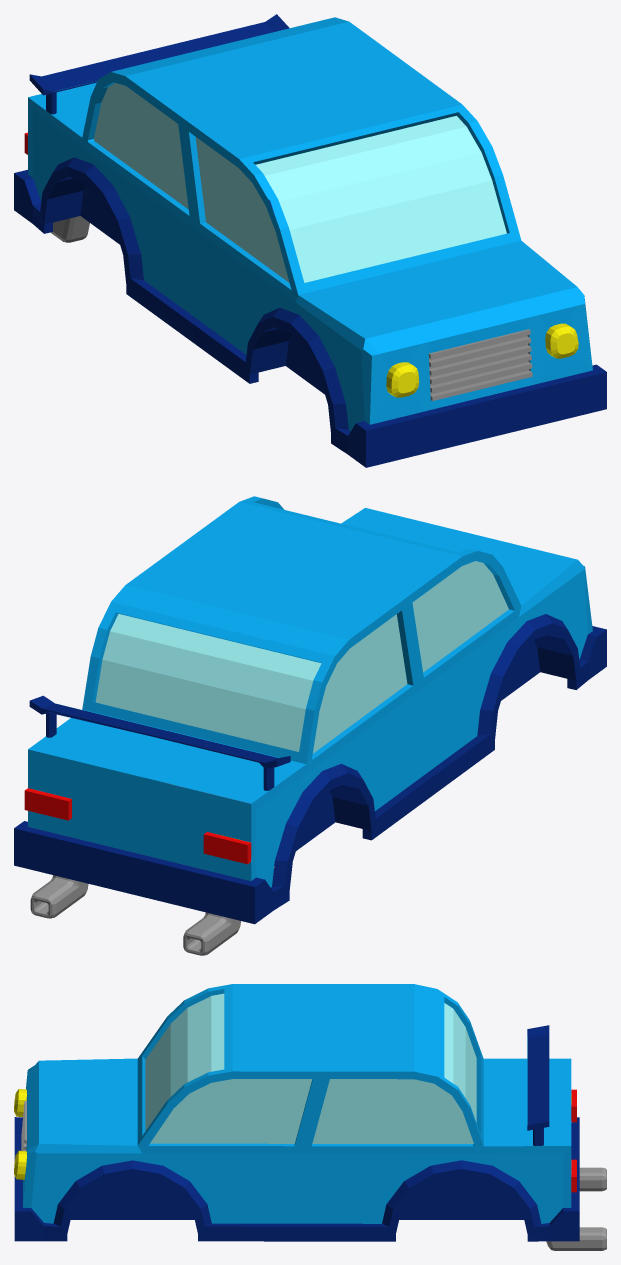
File: car.gltf
The picture shows the model from 3 angles, top to bottom: view 1: azimuth 30°, elevation 25°; view 2: azimuth 150°, elevation 25°; view 3: azimuth 270°, elevation 25°; orthographic projection. The views are drawn at different scales.
Visible parts, largest first — view 1: Car; view 2: Car; view 3: Car.
Part boxes in pixels (x1,y1,x2,y2): Car: [14, 14, 606, 467]; Car: [14, 496, 606, 955]; Car: [14, 984, 606, 1250].
Bounding box in the file's own units: 4.18 × 3.83 × 10.81.
Materials: 1 (1 with a texture image).
